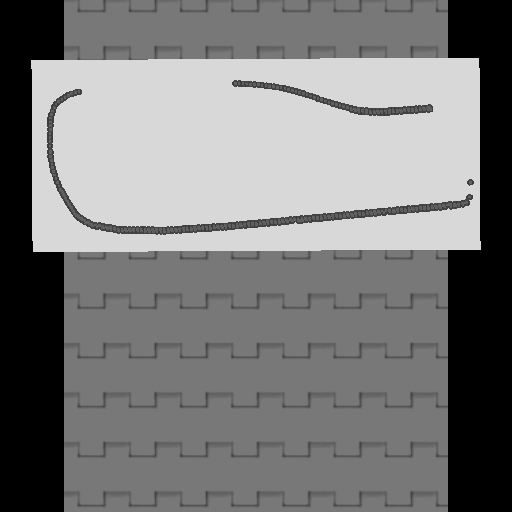Defect: (82, 75, 233, 100)
